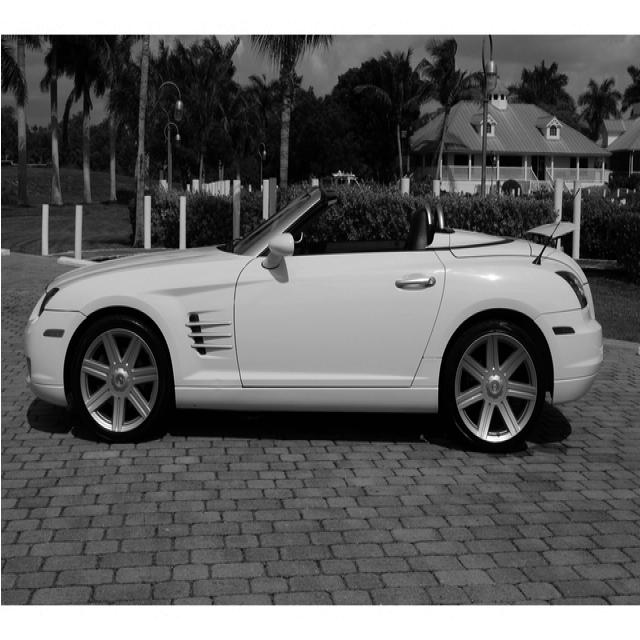car: (23, 184, 604, 452)
